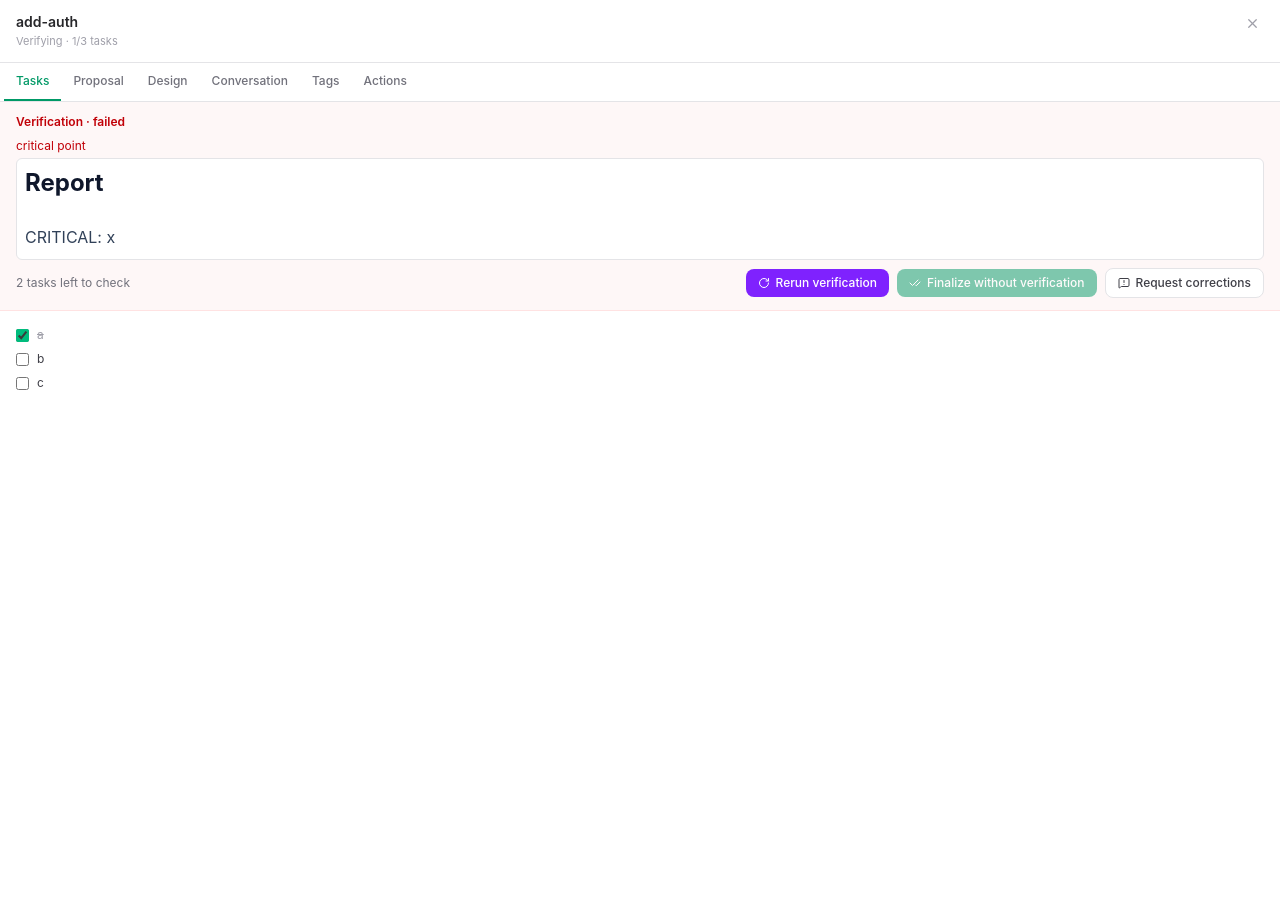
Test: DetailPanel verification banner › sends the typed feedback through the correction dialog and closes the panel
The image size is (1280, 900).
Click the button "Request corrections".
click(1184, 283)  # box [1104,268,1264,298]
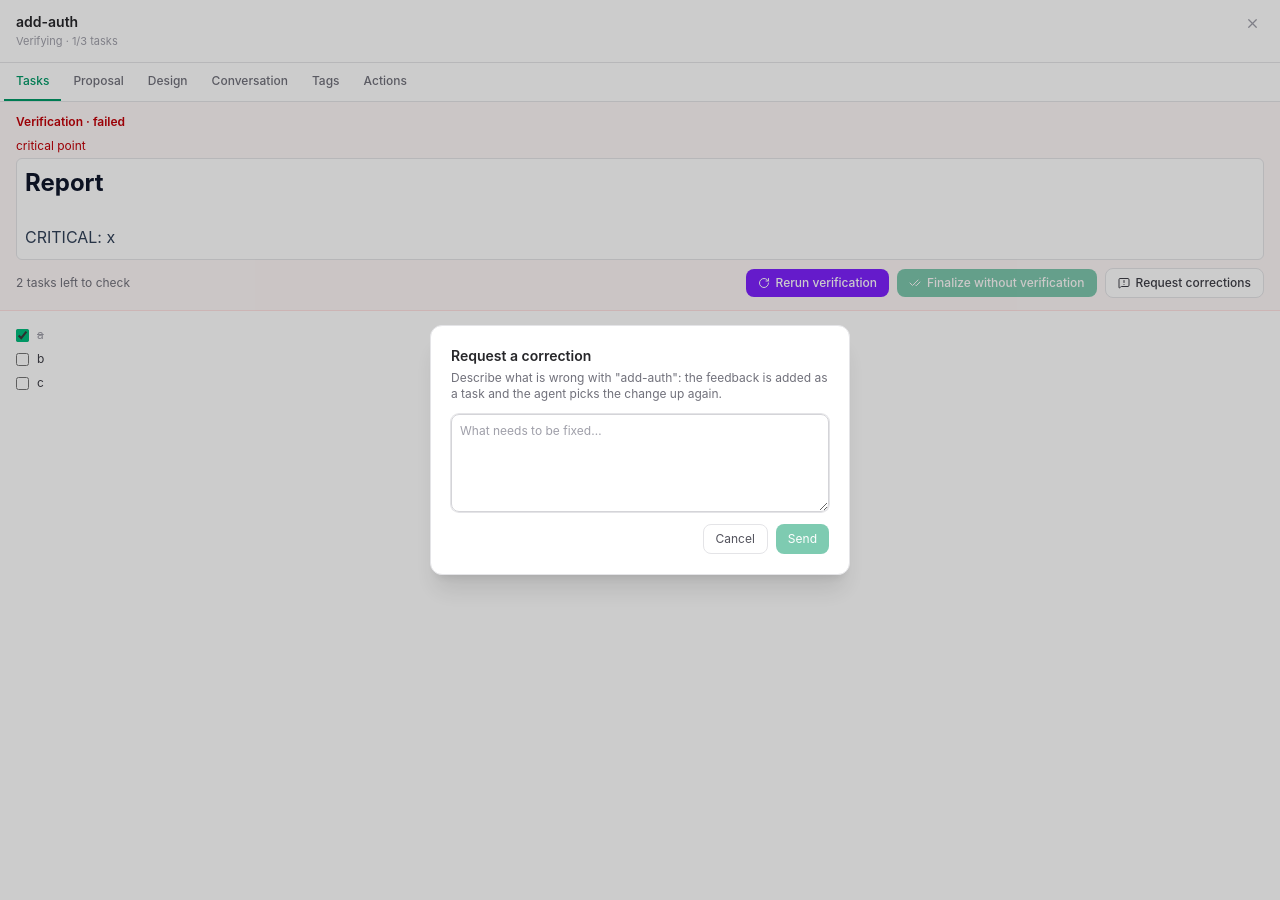
Type "fix the API contract" into the text box.
click(640, 463); type("fix the API contract")  # box [451,414,829,512]
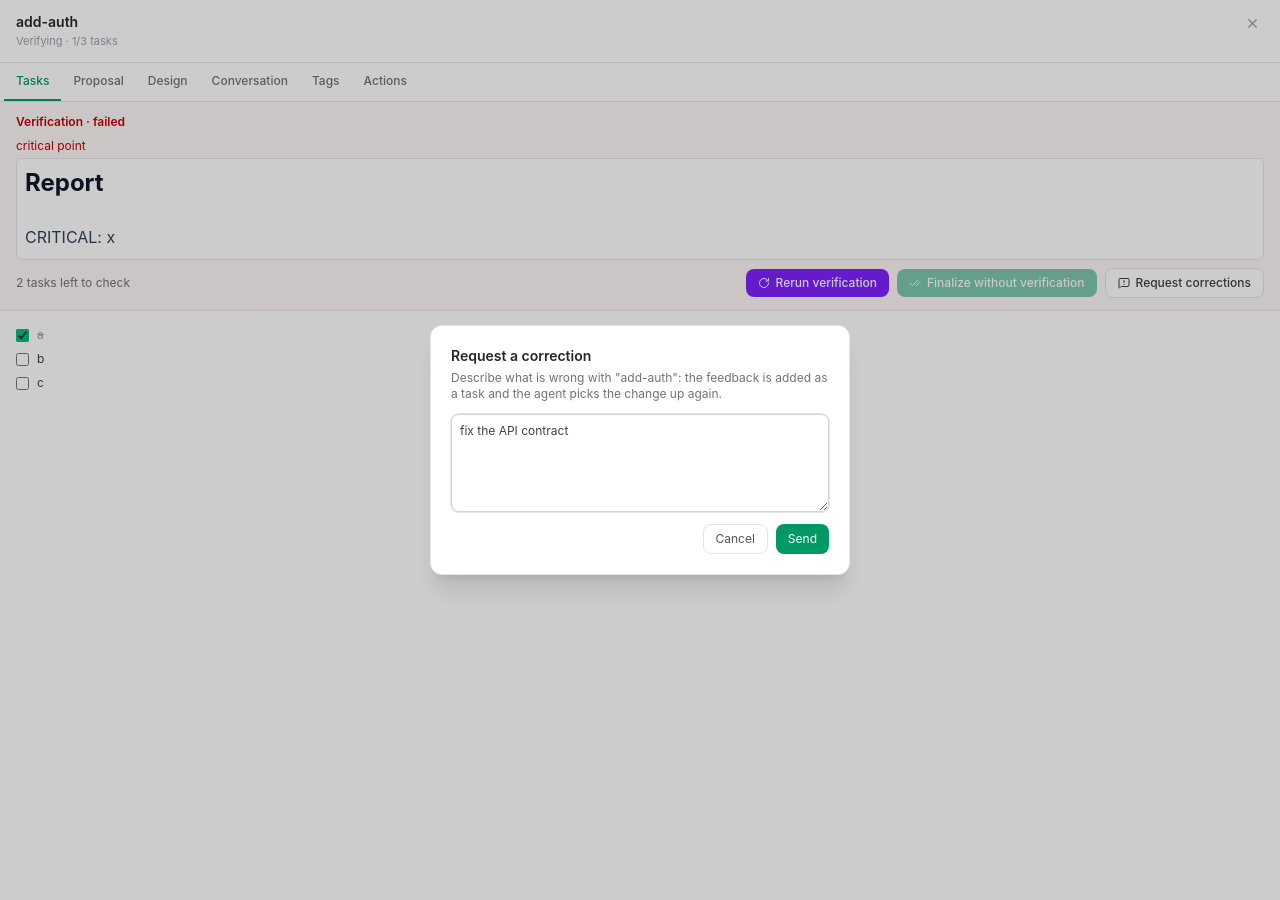
Click the button "Send".
click(802, 539)  # box [776,524,829,554]
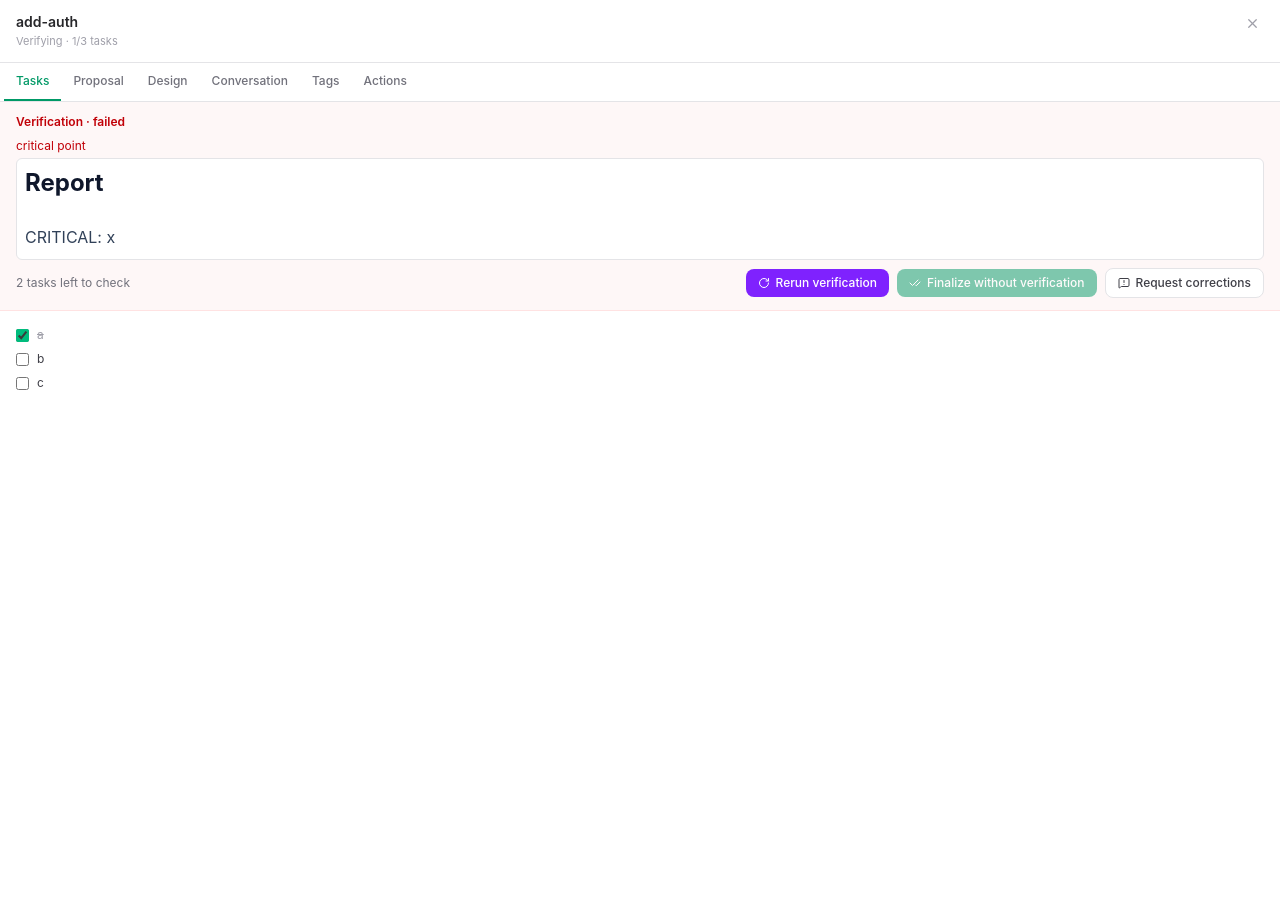
Now the dialog is gone
